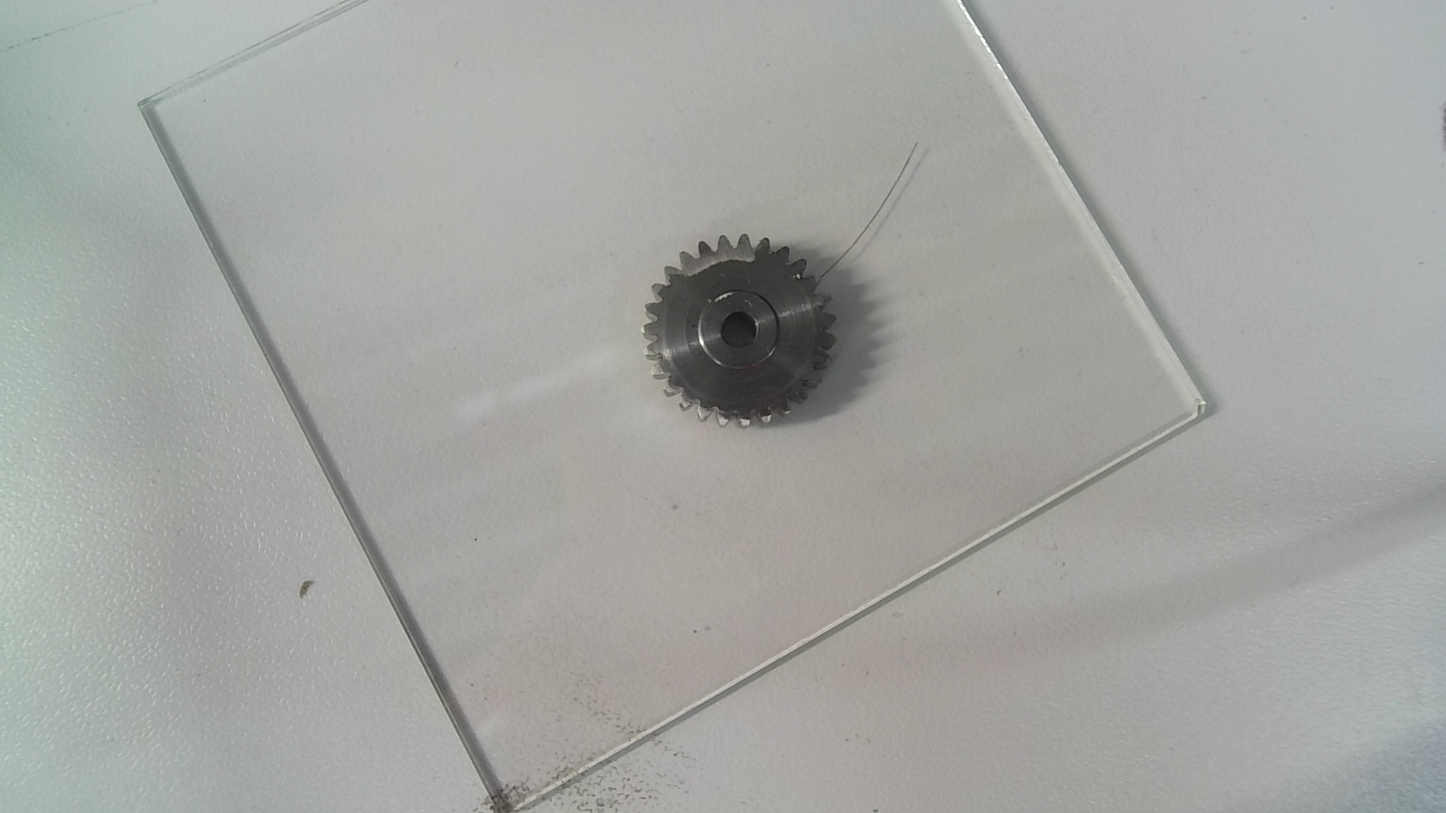gear: (640, 231, 837, 431)
